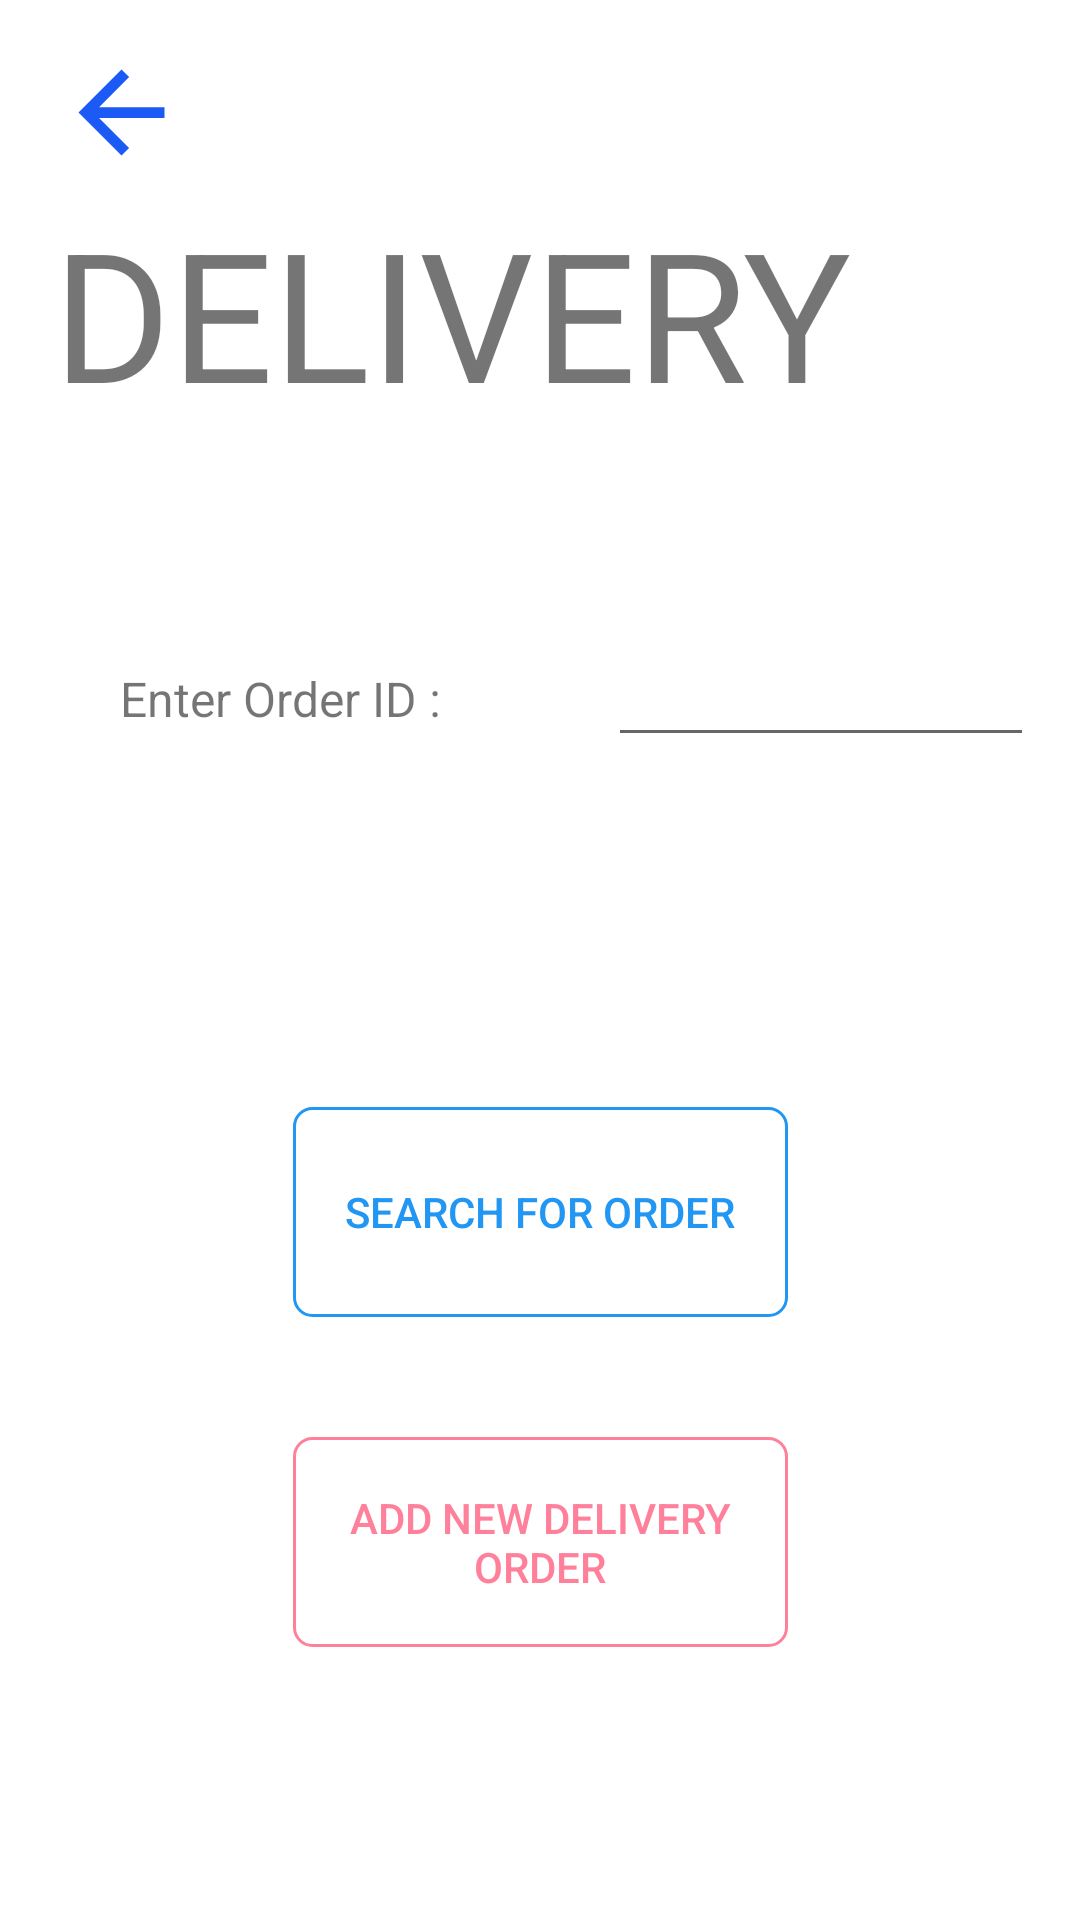

Icons on this 1080x1920 Android screen, each with the point to tap as [x,y]:
arrow back: [121,112]
